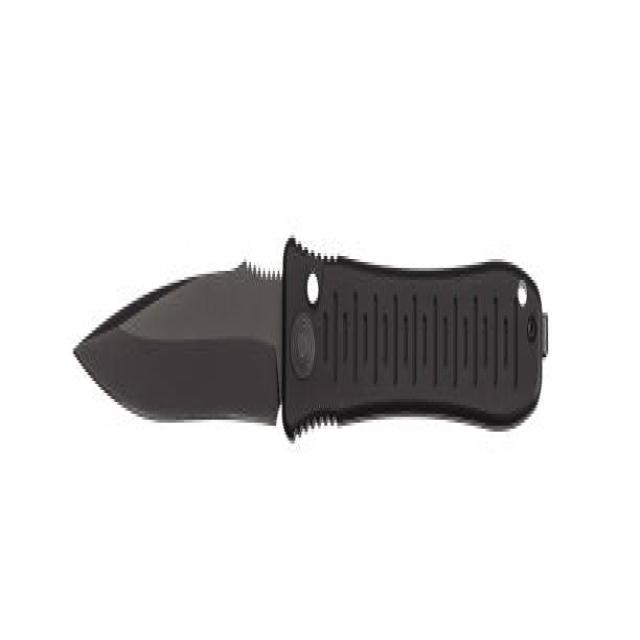knife: (69, 217, 557, 449)
